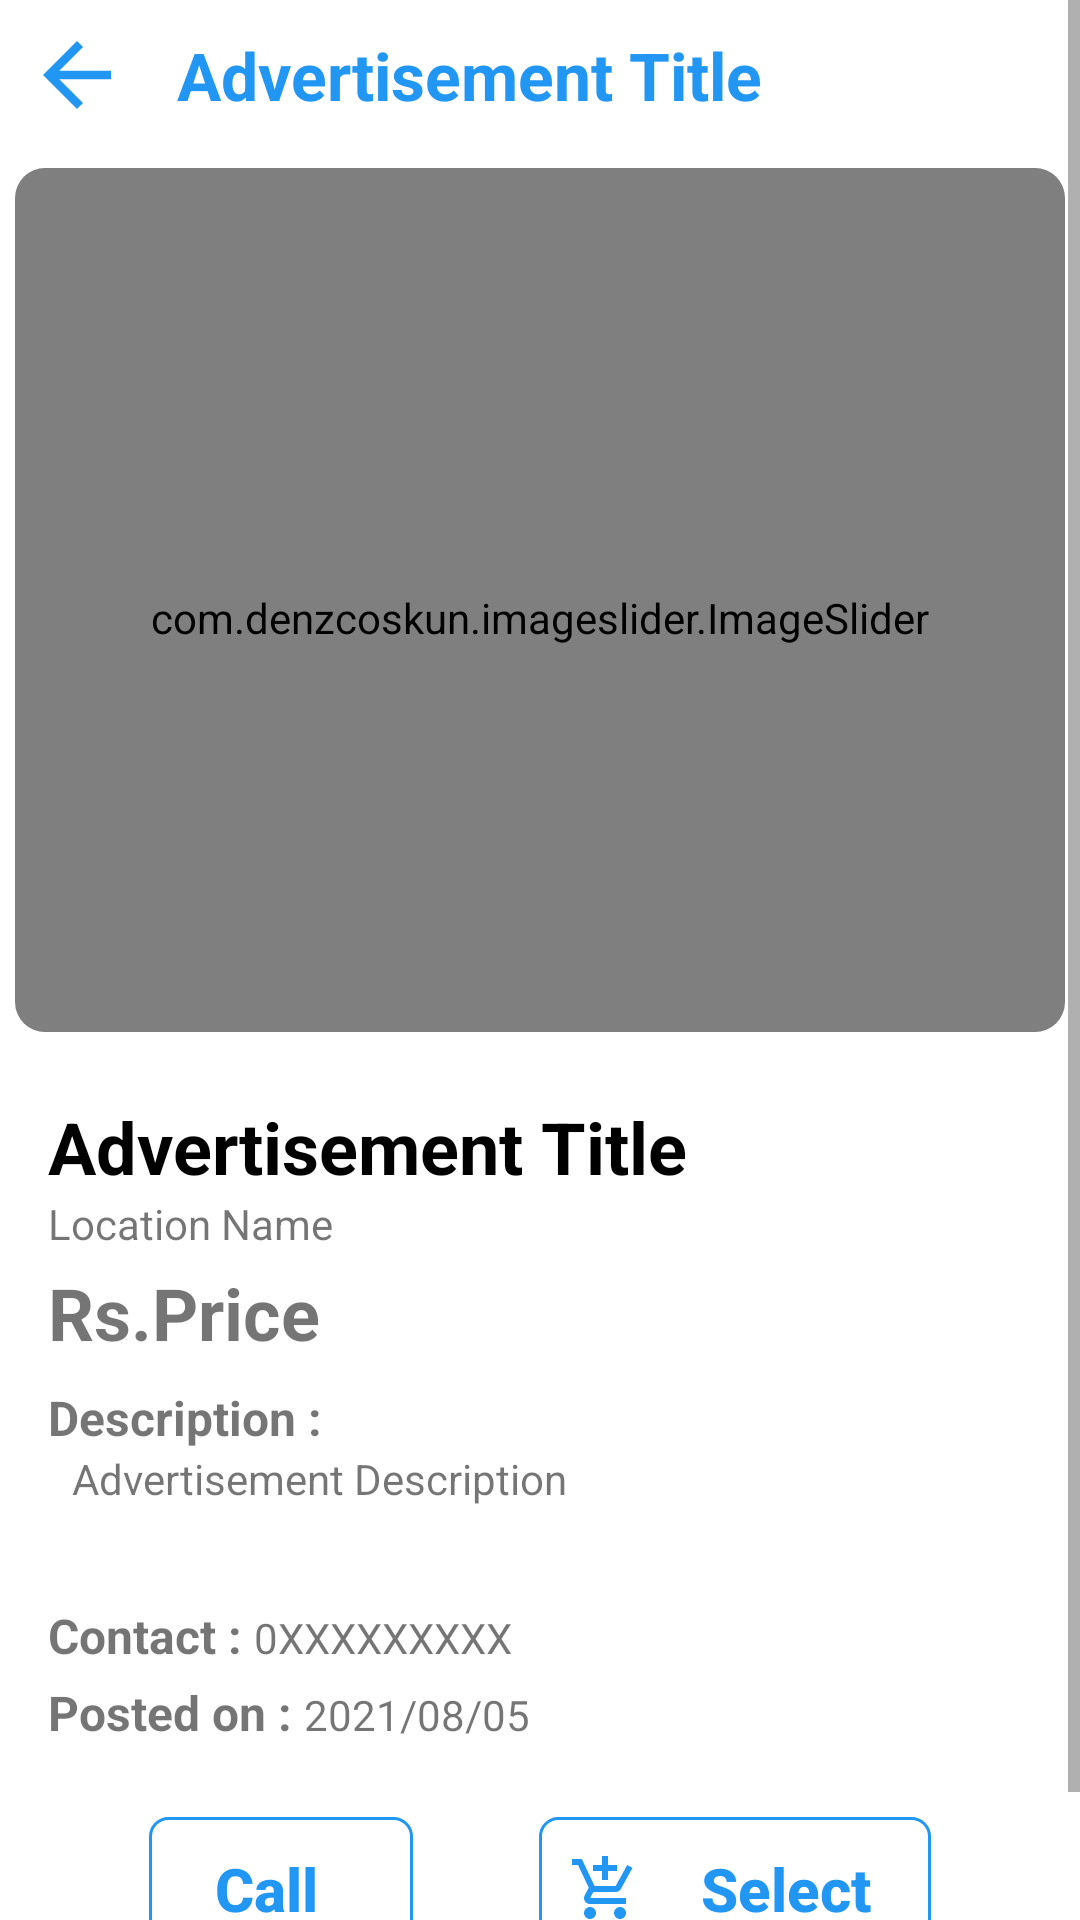

Screen size 1080*1920. Icon name, then its box in pixels as (x1, y1, x2, y2):
arrow back: (43, 41, 111, 109)
